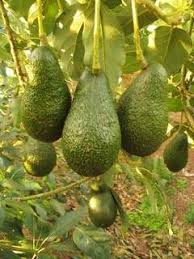aguacate: (19, 52, 70, 142)
